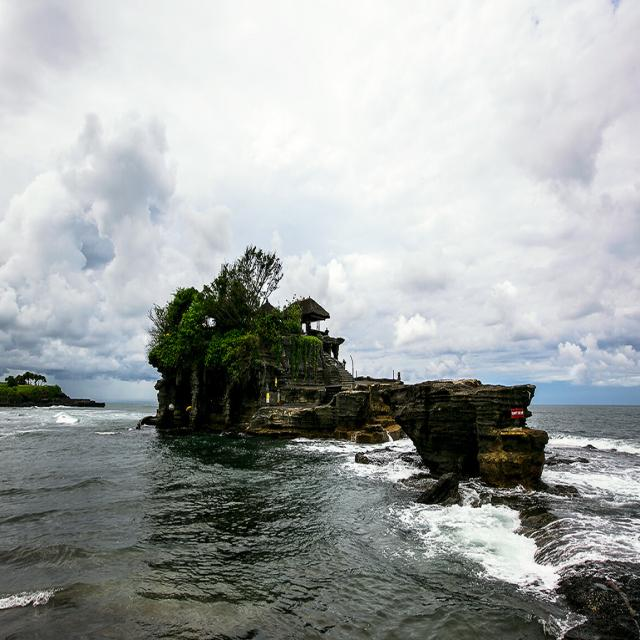reef: (426, 458, 640, 627)
